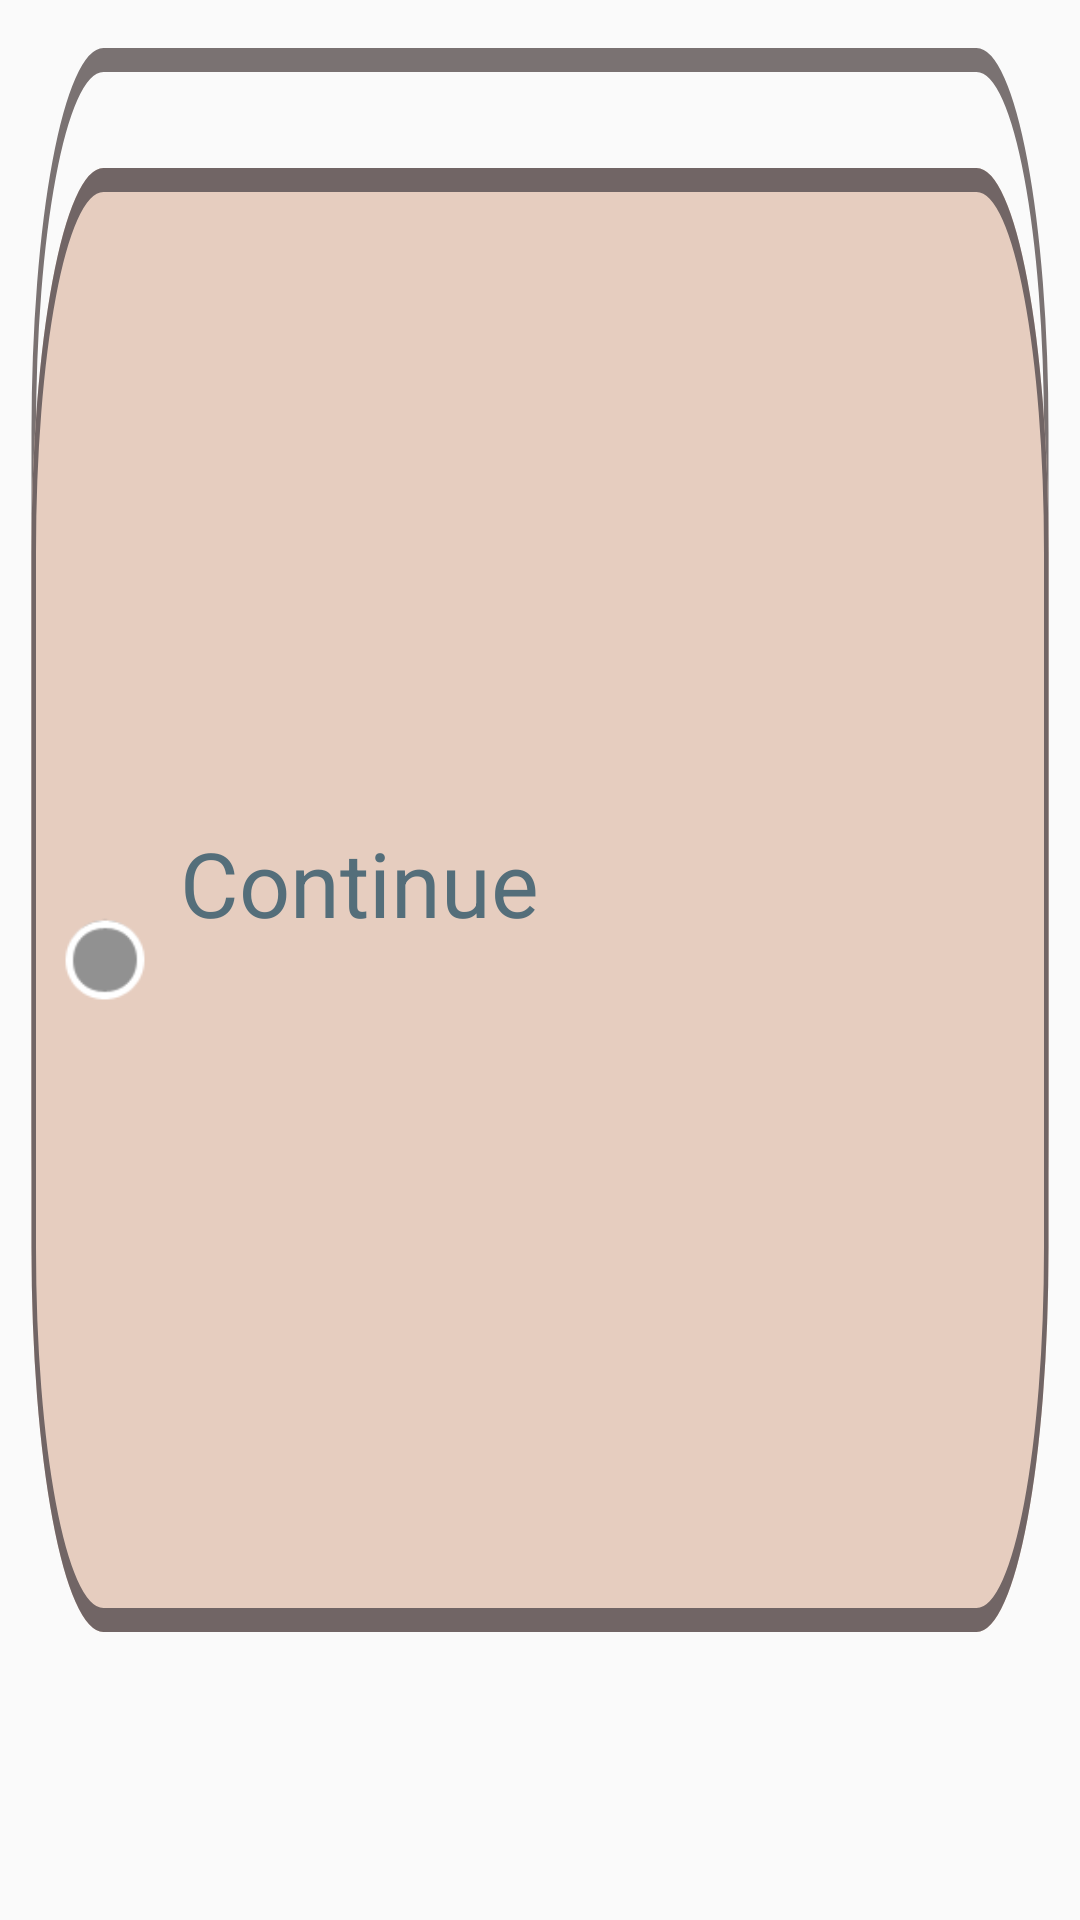

Named icons in this screenshot (1080*1920) and their centers, (x,y):
presence invisible: (105,960)
